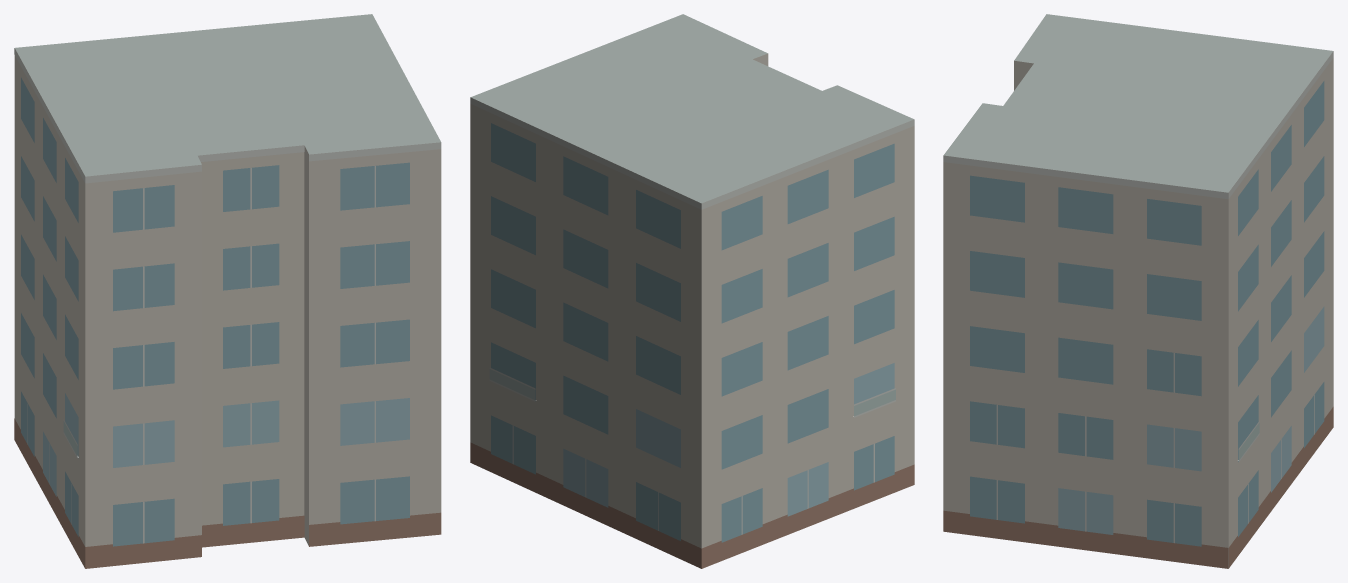
Rendered from survey-upis-32869382.glb.
3 renders of one model, left to right at view 1: azimuth 30°, elevation 25°; view 2: azimuth 150°, elevation 25°; view 3: azimuth 270°, elevation 25°, orthographic. The views are drawn at different scales.
Parts seen in each view (by area): view 1: survey-upis-32869382.tmp; view 2: survey-upis-32869382.tmp; view 3: survey-upis-32869382.tmp.
Part boxes in pixels (x1,y1,x2,y2): survey-upis-32869382.tmp: (14, 14, 441, 568); survey-upis-32869382.tmp: (470, 14, 914, 568); survey-upis-32869382.tmp: (943, 14, 1333, 568).
Bounding box in the file's own units: 14.27 × 14 × 13.17.
